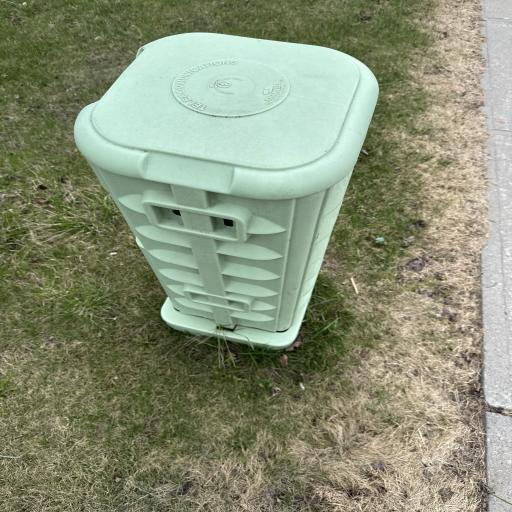Electrical Box: (76, 33, 378, 350)
